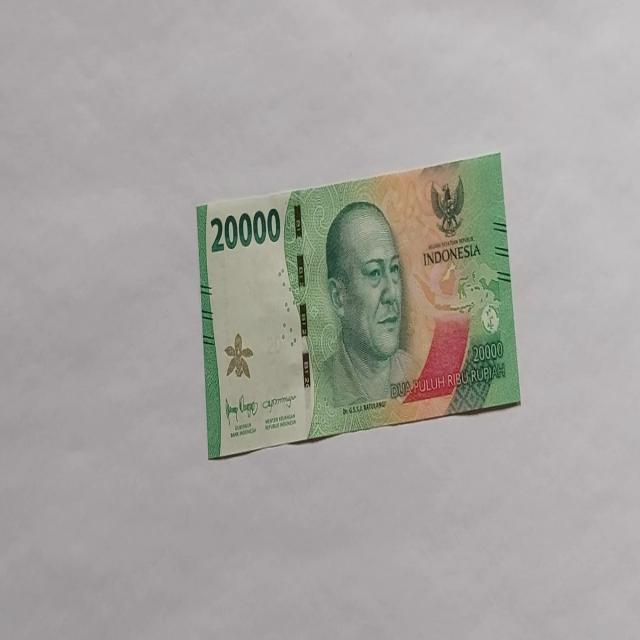dua puluh ribu rupiah: (195, 150, 521, 460), (310, 198, 420, 428)
